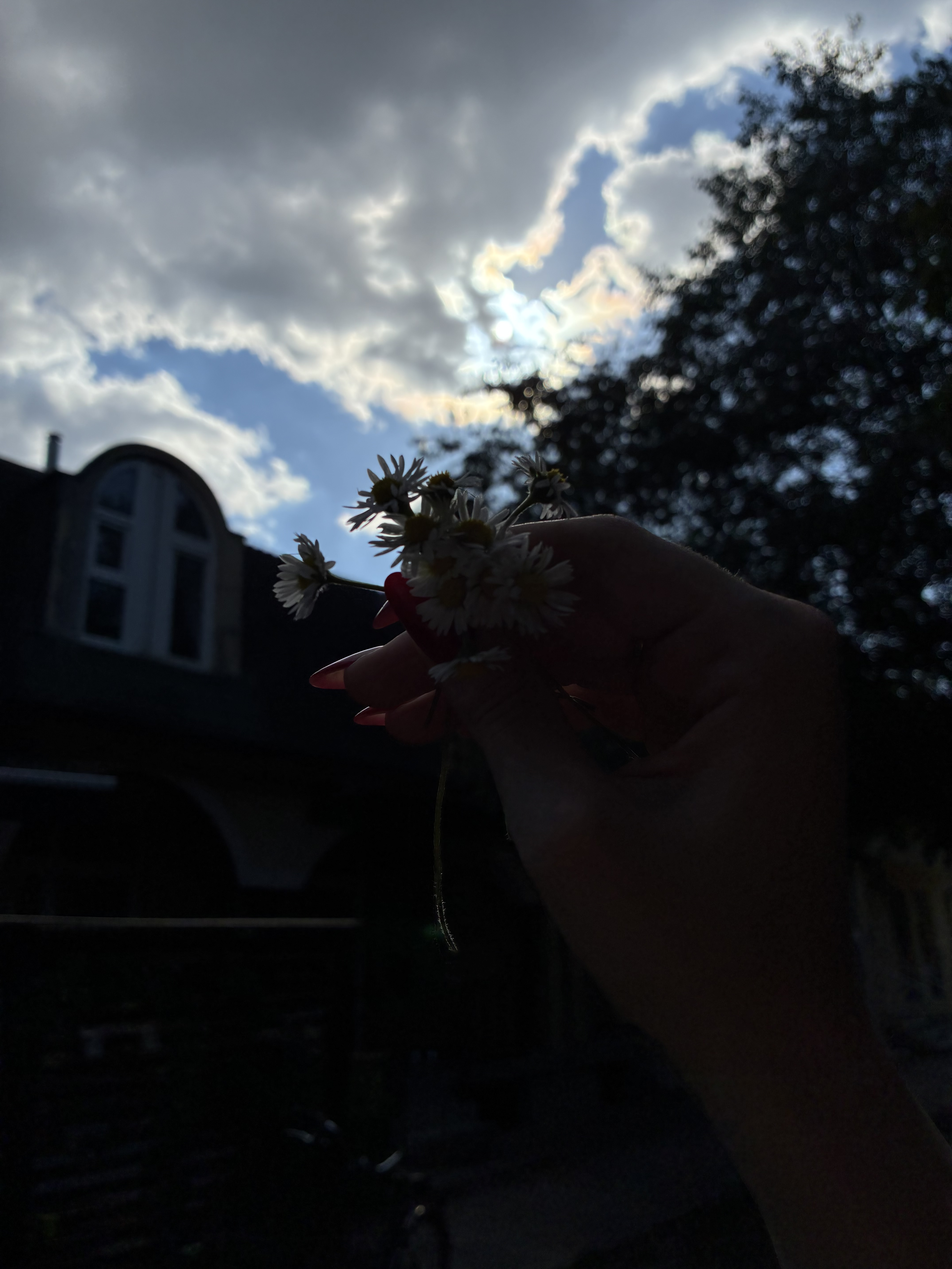daisy: (337, 444, 430, 539), (498, 536, 579, 635), (407, 550, 491, 634), (268, 529, 337, 625), (367, 505, 451, 577), (505, 447, 581, 523), (447, 487, 507, 559), (425, 643, 509, 688), (403, 465, 488, 500)
